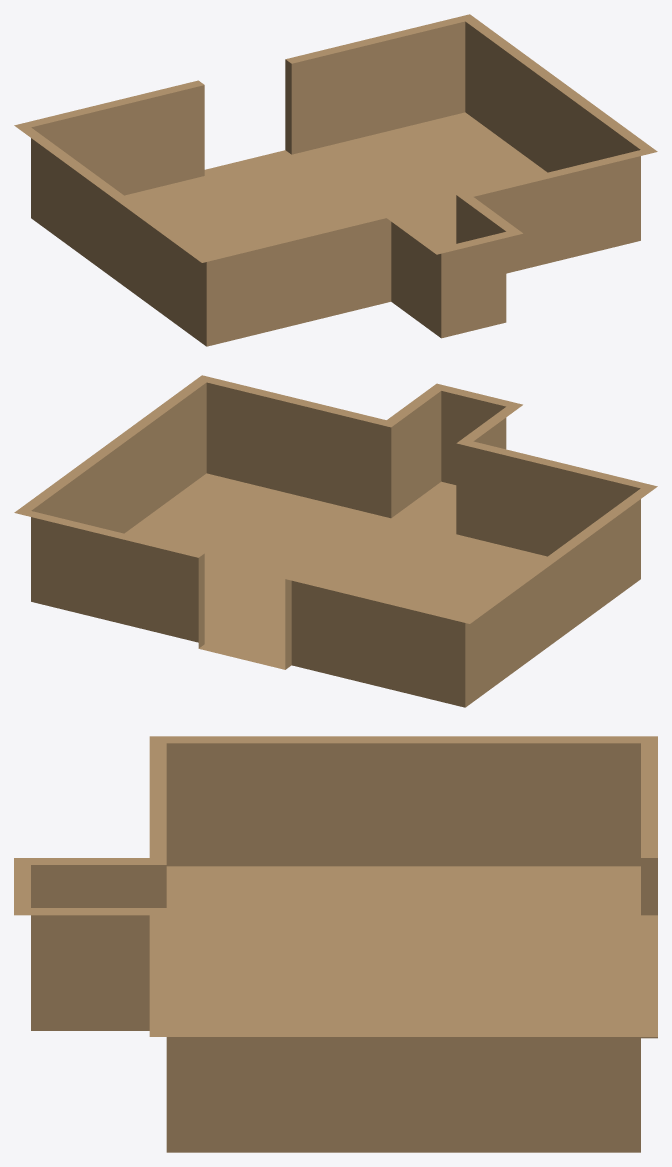
The model's file is DesertStructureBO_unsub_v2.fbx.
3 renders of one model, top to bottom at view 1: azimuth 30°, elevation 25°; view 2: azimuth 150°, elevation 25°; view 3: azimuth 270°, elevation 25°, orthographic. The views are drawn at different scales.
Parts seen in each view (by area): view 1: Grid_unsub; view 2: Grid_unsub; view 3: Grid_unsub.
Part boxes in pixels (x1,y1,x2,y2): Grid_unsub: [14, 14, 657, 346]; Grid_unsub: [14, 375, 657, 707]; Grid_unsub: [14, 736, 657, 1152].
Bounding box in the file's own units: 42 × 8 × 38.
